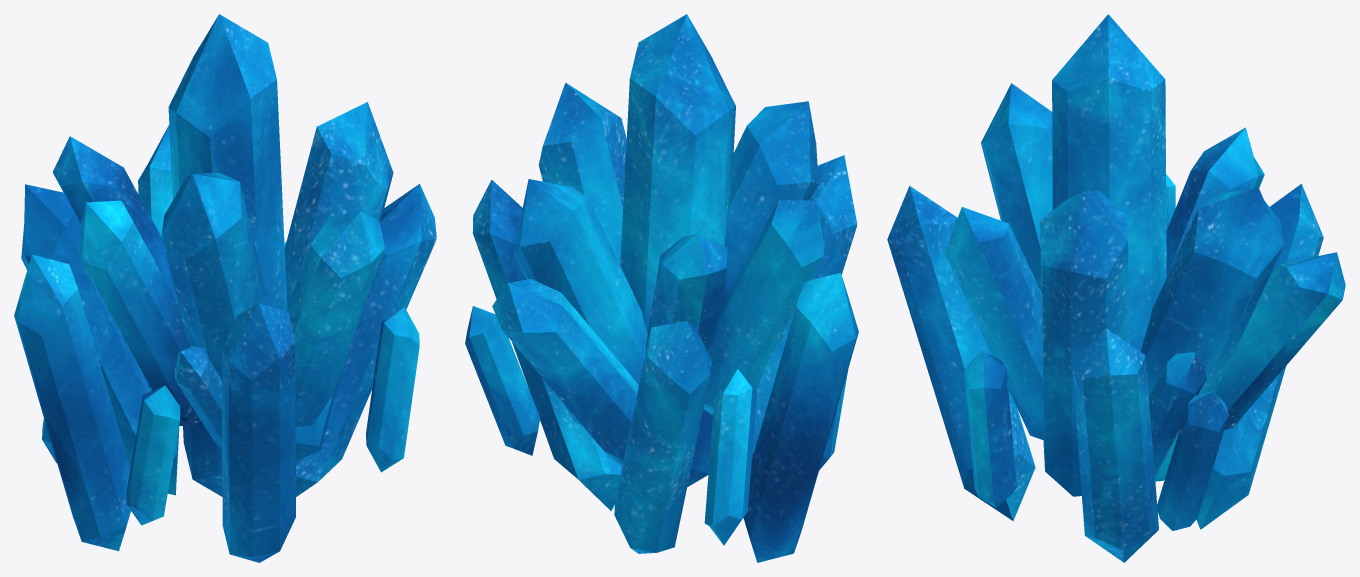
The model's file is Crystals.fbx.
3 views of the same model, side by side, from view 1: azimuth 30°, elevation 25°; view 2: azimuth 150°, elevation 25°; view 3: azimuth 270°, elevation 25° (orthographic).
Parts seen in each view (by area): view 1: Crystals_Baked; view 2: Crystals_Baked; view 3: Crystals_Baked.
Boxes of the visible parts, x1=… form: Crystals_Baked: x1=14, y1=14, x2=436, y2=562; Crystals_Baked: x1=465, y1=14, x2=858, y2=562; Crystals_Baked: x1=887, y1=14, x2=1345, y2=562.
Size of the model in its own units: 828 by 1033 by 817.
Materials: 1 (1 with a texture image).
